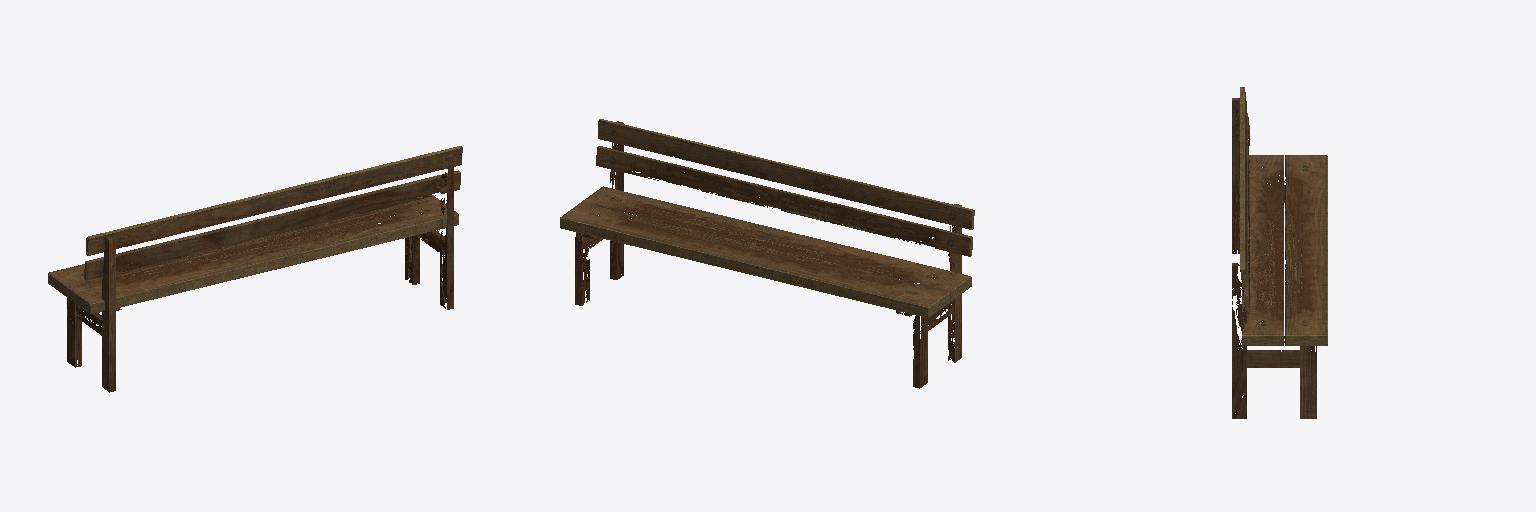
The picture shows the model from 3 angles: view 1: azimuth 30°, elevation 25°; view 2: azimuth 150°, elevation 25°; view 3: azimuth 270°, elevation 25°; orthographic projection.
Parts seen in each view (by area): view 1: Plane001; view 2: Plane001; view 3: Plane001.
Part boxes in pixels (x1,y1,x2,y2): Plane001: (48, 146, 462, 392); Plane001: (560, 119, 974, 388); Plane001: (1232, 87, 1327, 418).
Bounding box in the file's own units: 163 × 64.56 × 35.98.
Materials: 1 (1 with a texture image).